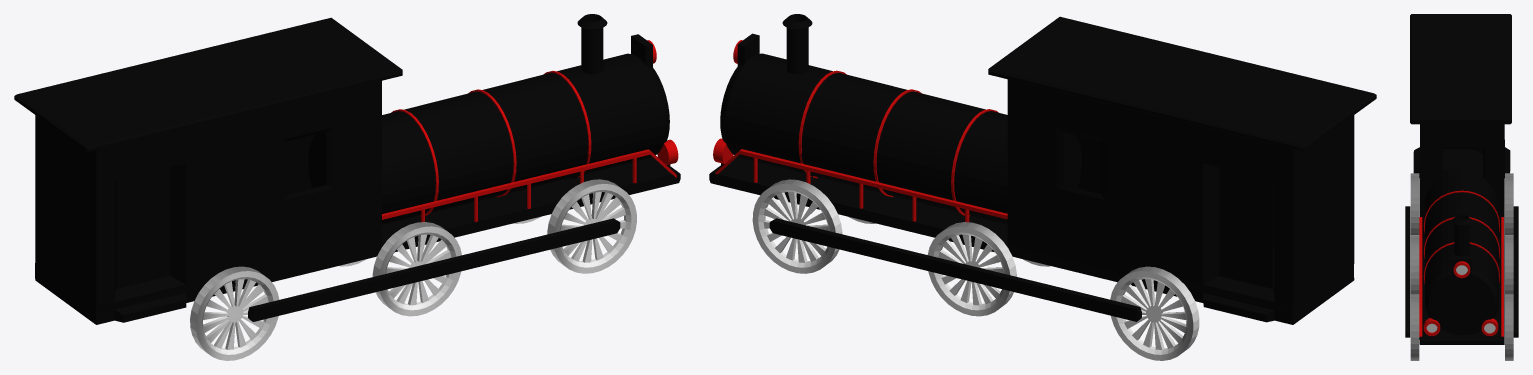
The model's file is train.obj.
3 renders of one model, left to right at view 1: azimuth 30°, elevation 25°; view 2: azimuth 150°, elevation 25°; view 3: azimuth 270°, elevation 25°, orthographic. The views are drawn at different scales.
Parts seen in each view (by area): view 1: mozdony_Cube, hajtokar_Cube.001, kerek3j_Cylinder.002, kerek1j_Cylinder, kerek2j_Cylinder.004; view 2: mozdony_Cube, hajtokar_Cube.001, kerek3b_Cylinder.005, kerek1b_Cylinder.003, kerek2b_Cylinder.001; view 3: mozdony_Cube, hajtokar_Cube.001, kerek1j_Cylinder, kerek3j_Cylinder.002, kerek1b_Cylinder.003, kerek2j_Cylinder.004, kerek3b_Cylinder.005, kerek2b_Cylinder.001.
Boxes of the visible parts, bbox=[...] form: mozdony_Cube: bbox=[14, 14, 680, 324]; hajtokar_Cube.001: bbox=[248, 218, 620, 321]; kerek3j_Cylinder.002: bbox=[190, 266, 279, 360]; kerek1j_Cylinder: bbox=[547, 179, 636, 273]; kerek2j_Cylinder.004: bbox=[372, 222, 461, 316]; mozdony_Cube: bbox=[709, 14, 1376, 324]; hajtokar_Cube.001: bbox=[769, 218, 1141, 321]; kerek3b_Cylinder.005: bbox=[1110, 266, 1199, 360]; kerek1b_Cylinder.003: bbox=[752, 179, 842, 273]; kerek2b_Cylinder.001: bbox=[927, 222, 1016, 316]; mozdony_Cube: bbox=[1410, 14, 1511, 344]; hajtokar_Cube.001: bbox=[1405, 206, 1518, 337]; kerek1j_Cylinder: bbox=[1410, 294, 1419, 360]; kerek3j_Cylinder.002: bbox=[1410, 173, 1419, 234]; kerek1b_Cylinder.003: bbox=[1505, 294, 1513, 360]; kerek2j_Cylinder.004: bbox=[1410, 235, 1419, 294]; kerek3b_Cylinder.005: bbox=[1505, 173, 1513, 234]; kerek2b_Cylinder.001: bbox=[1505, 235, 1513, 294].
Size of the model in its own units: 11.37 by 4.5 by 2.68.
